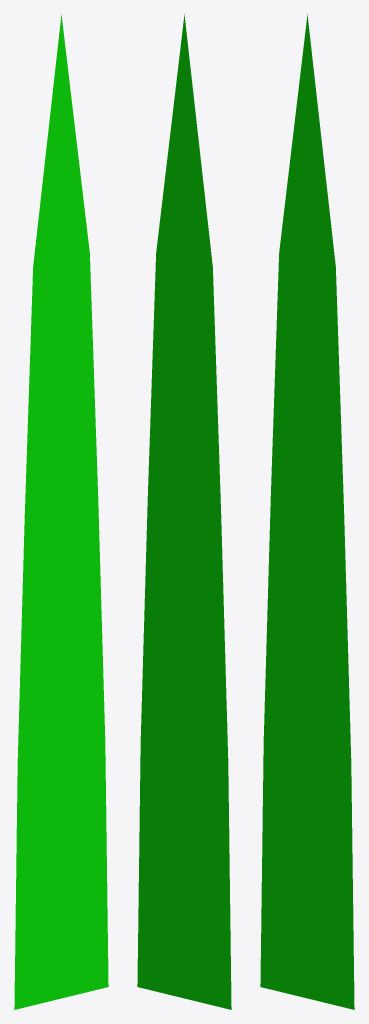
File: Grasstriangle2.fbx
3 views of the same model, side by side, from view 1: azimuth 30°, elevation 25°; view 2: azimuth 150°, elevation 25°; view 3: azimuth 330°, elevation 25° (orthographic).
Visible parts, largest first — view 1: Grass3; view 2: Grass3; view 3: Grass3.
Boxes of the visible parts, x1,y1,x2,y2 form: Grass3: (14, 14, 108, 1009); Grass3: (137, 14, 231, 1009); Grass3: (260, 14, 354, 1009).
Size of the model in its own units: 0.2 by 2 by 0.
